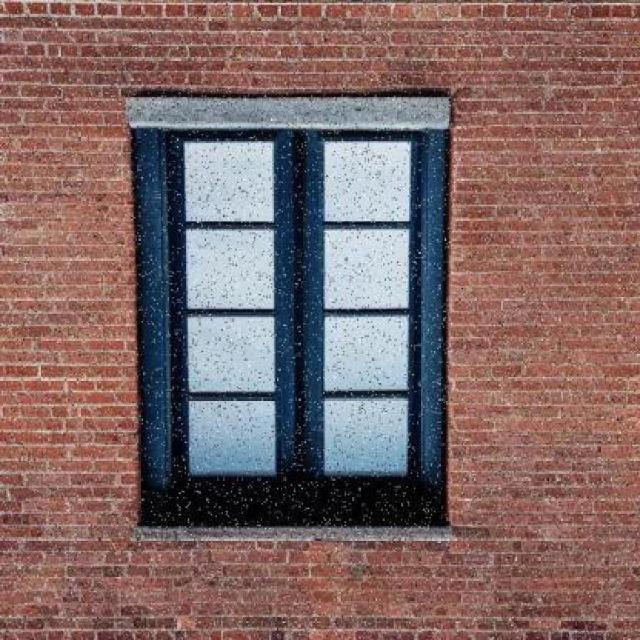window: (131, 127, 451, 528)
